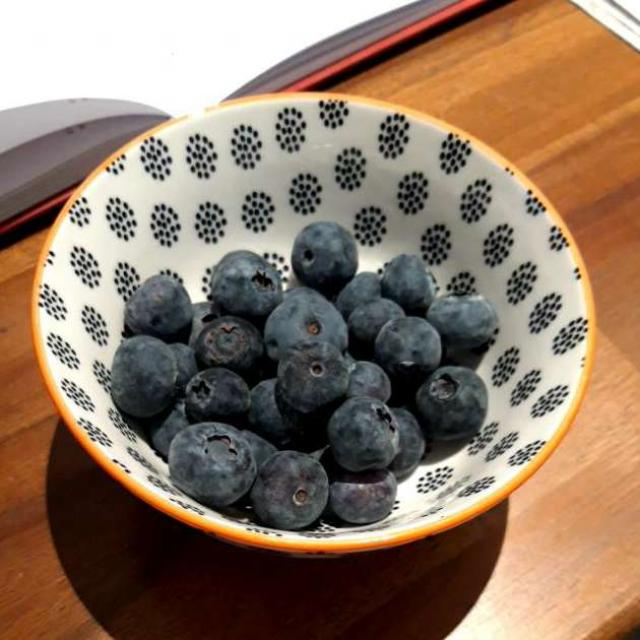blueberries: (117, 220, 493, 528)
